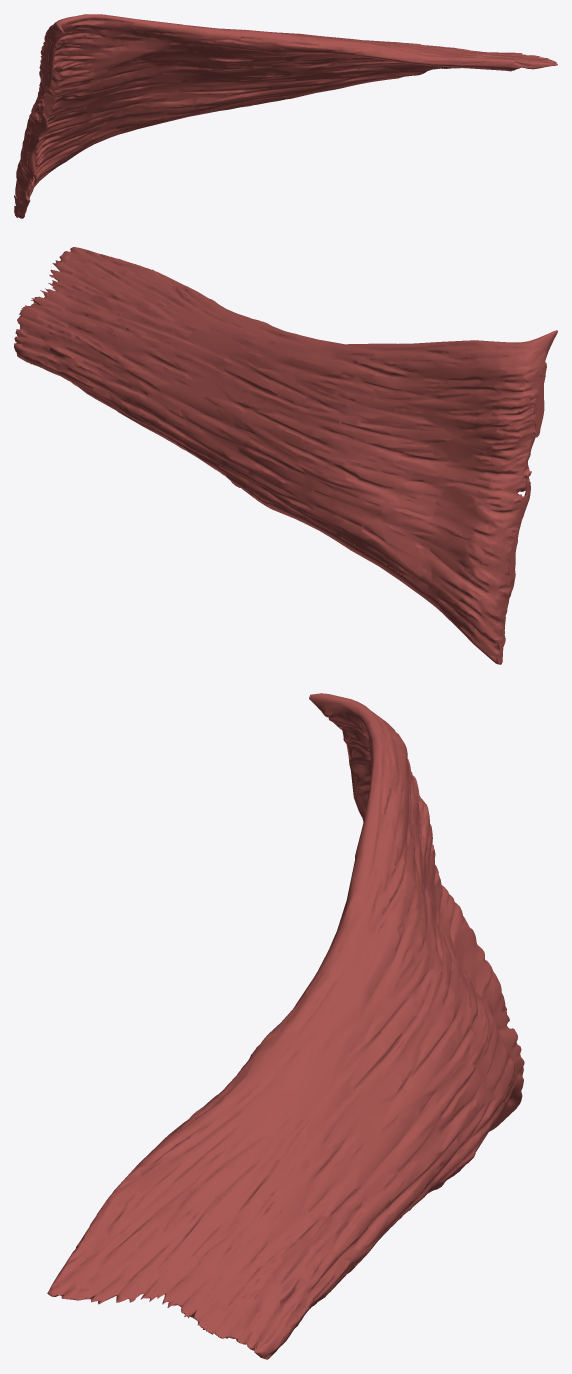
File: FMA33585.glb
The picture shows the model from 3 angles, top to bottom: view 1: azimuth 30°, elevation 25°; view 2: azimuth 150°, elevation 25°; view 3: azimuth 270°, elevation 25°; orthographic projection. The views are drawn at different scales.
Visible parts, largest first — view 1: FMA33585; view 2: FMA33585; view 3: FMA33585.
Part boxes in pixels (bbox=[...]): FMA33585: bbox=[14, 14, 557, 218]; FMA33585: bbox=[14, 247, 557, 664]; FMA33585: bbox=[47, 693, 524, 1359].
Bounding box in the file's own units: 0.1637 × 0.079 × 0.0777.
